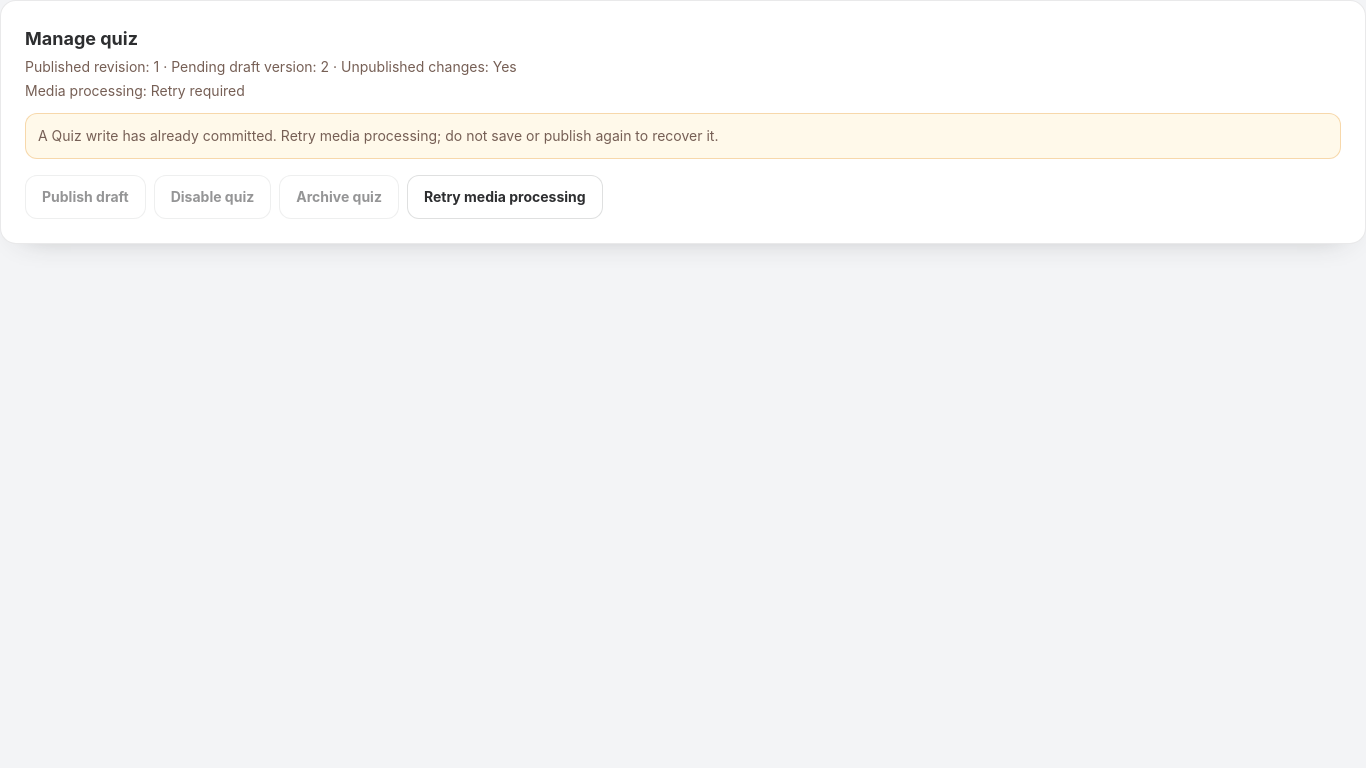
General Practice management actions › uses only the media-retry endpoint for a pending media operation
The image size is (1366, 768).
Expected: the button "Publish draft" is disabled, [25, 175, 146, 219]
Click the button "Retry media processing" at (505, 197), box [407, 175, 603, 219]
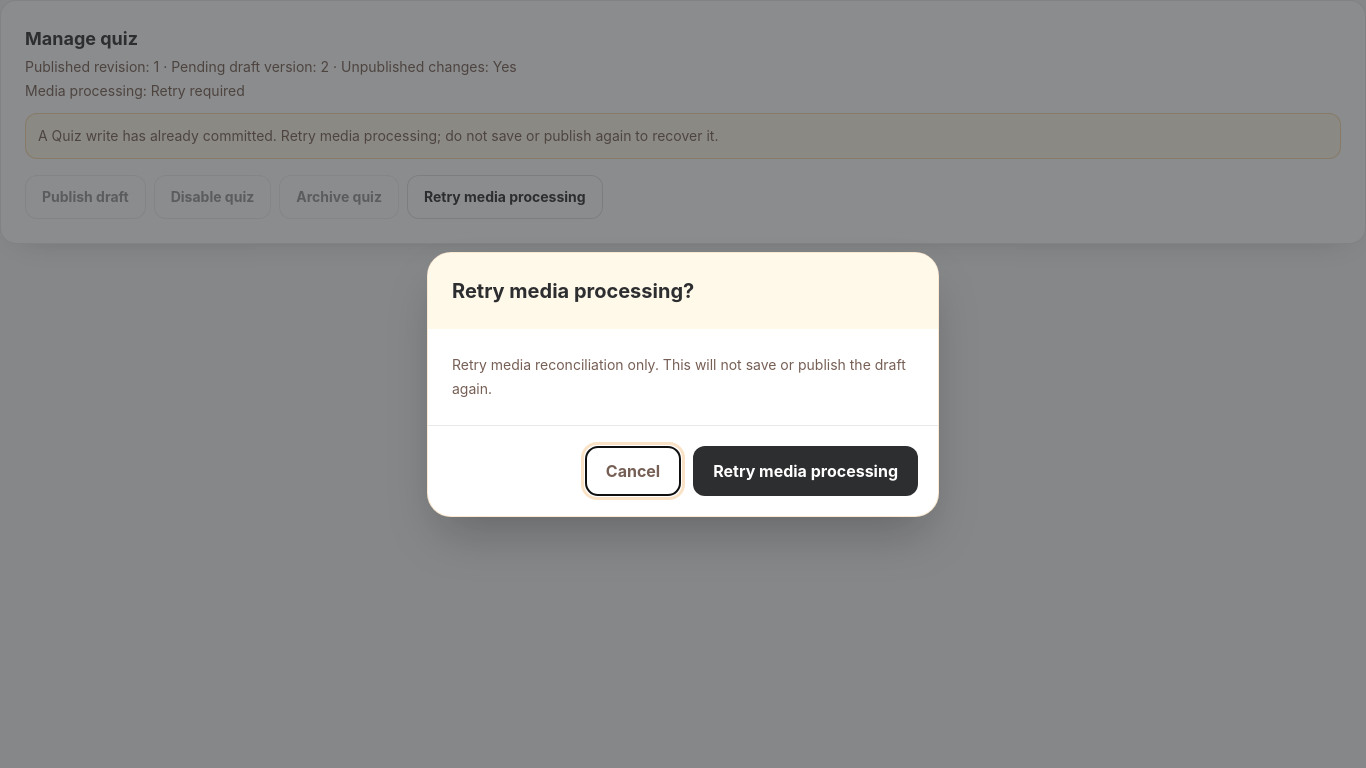
Click the button "Retry media processing" at (806, 470), box [693, 446, 918, 496]
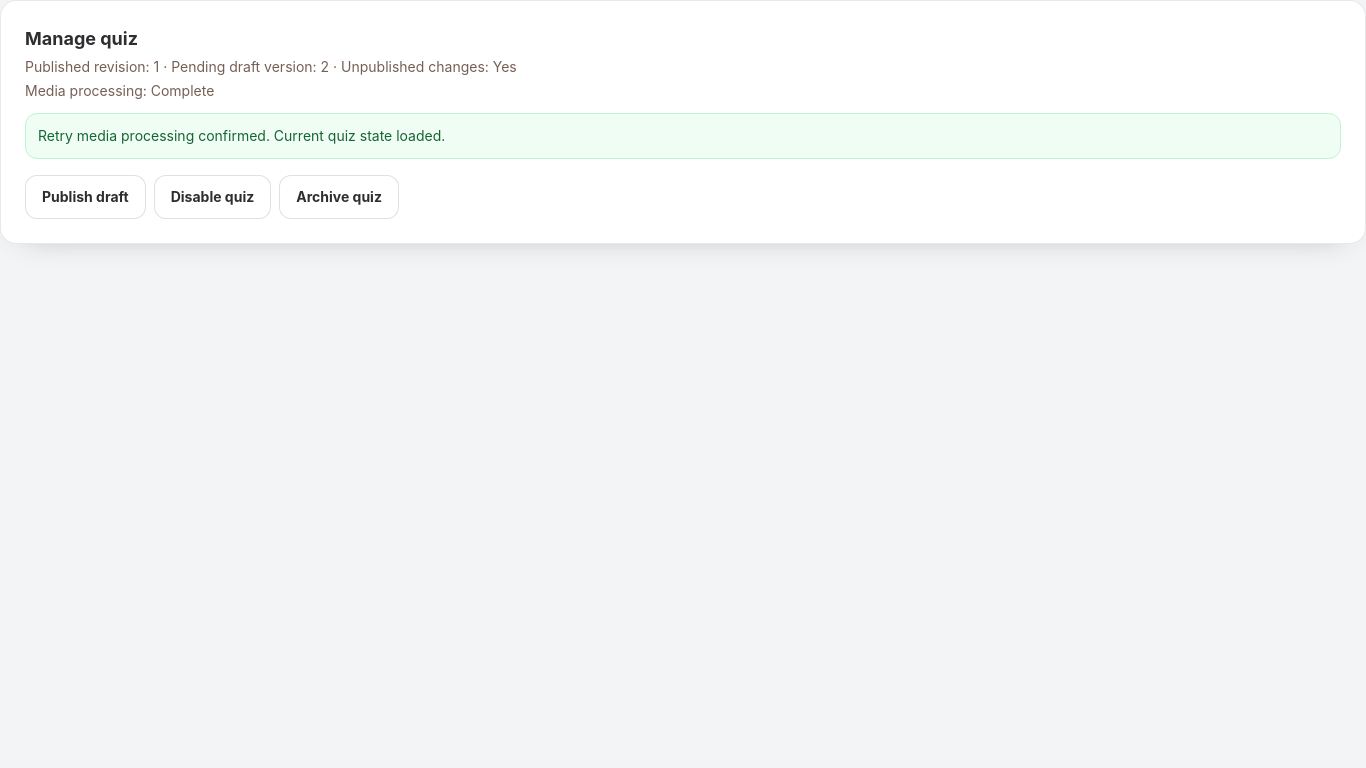
Expected: the text "Media processing: Complete" is shown, [25, 82, 214, 99]
